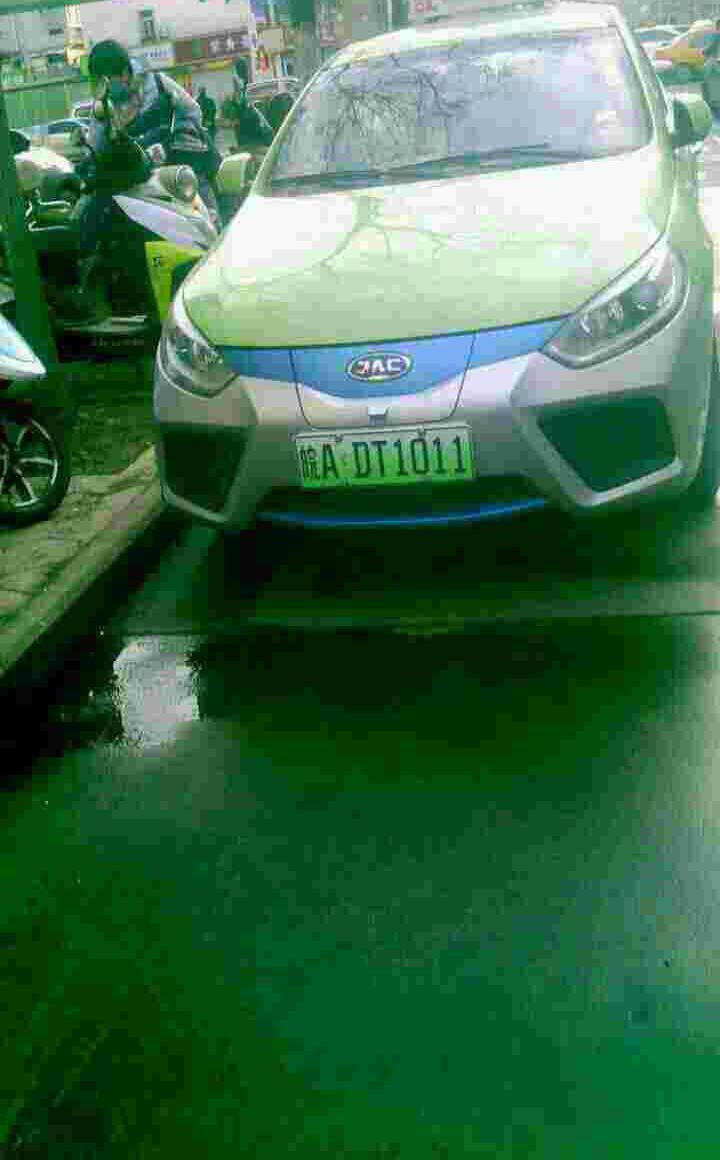car: (284, 427, 482, 487)
